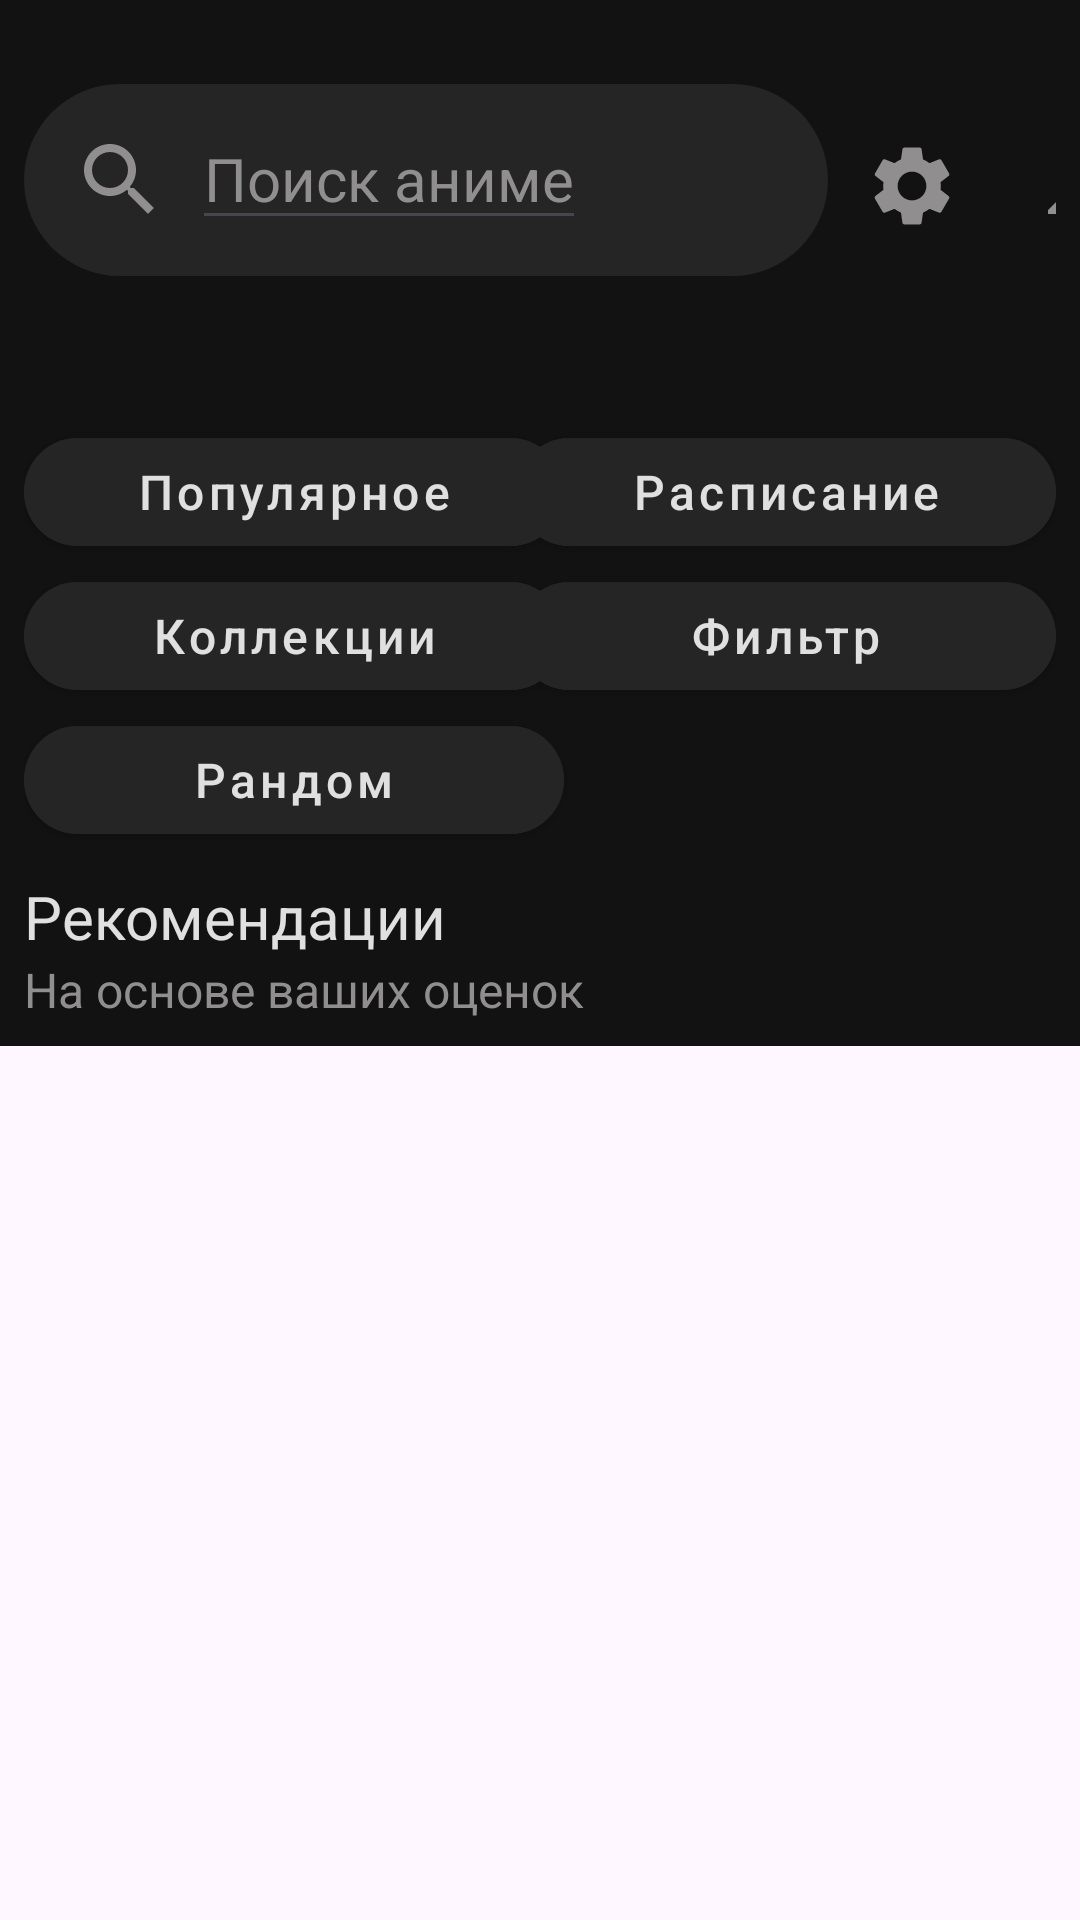

Icons on this 1080px x 1920px Android screen, each with the point to tap as (x=x, y=y):
search: (x=119, y=179)
settings: (x=912, y=186)
